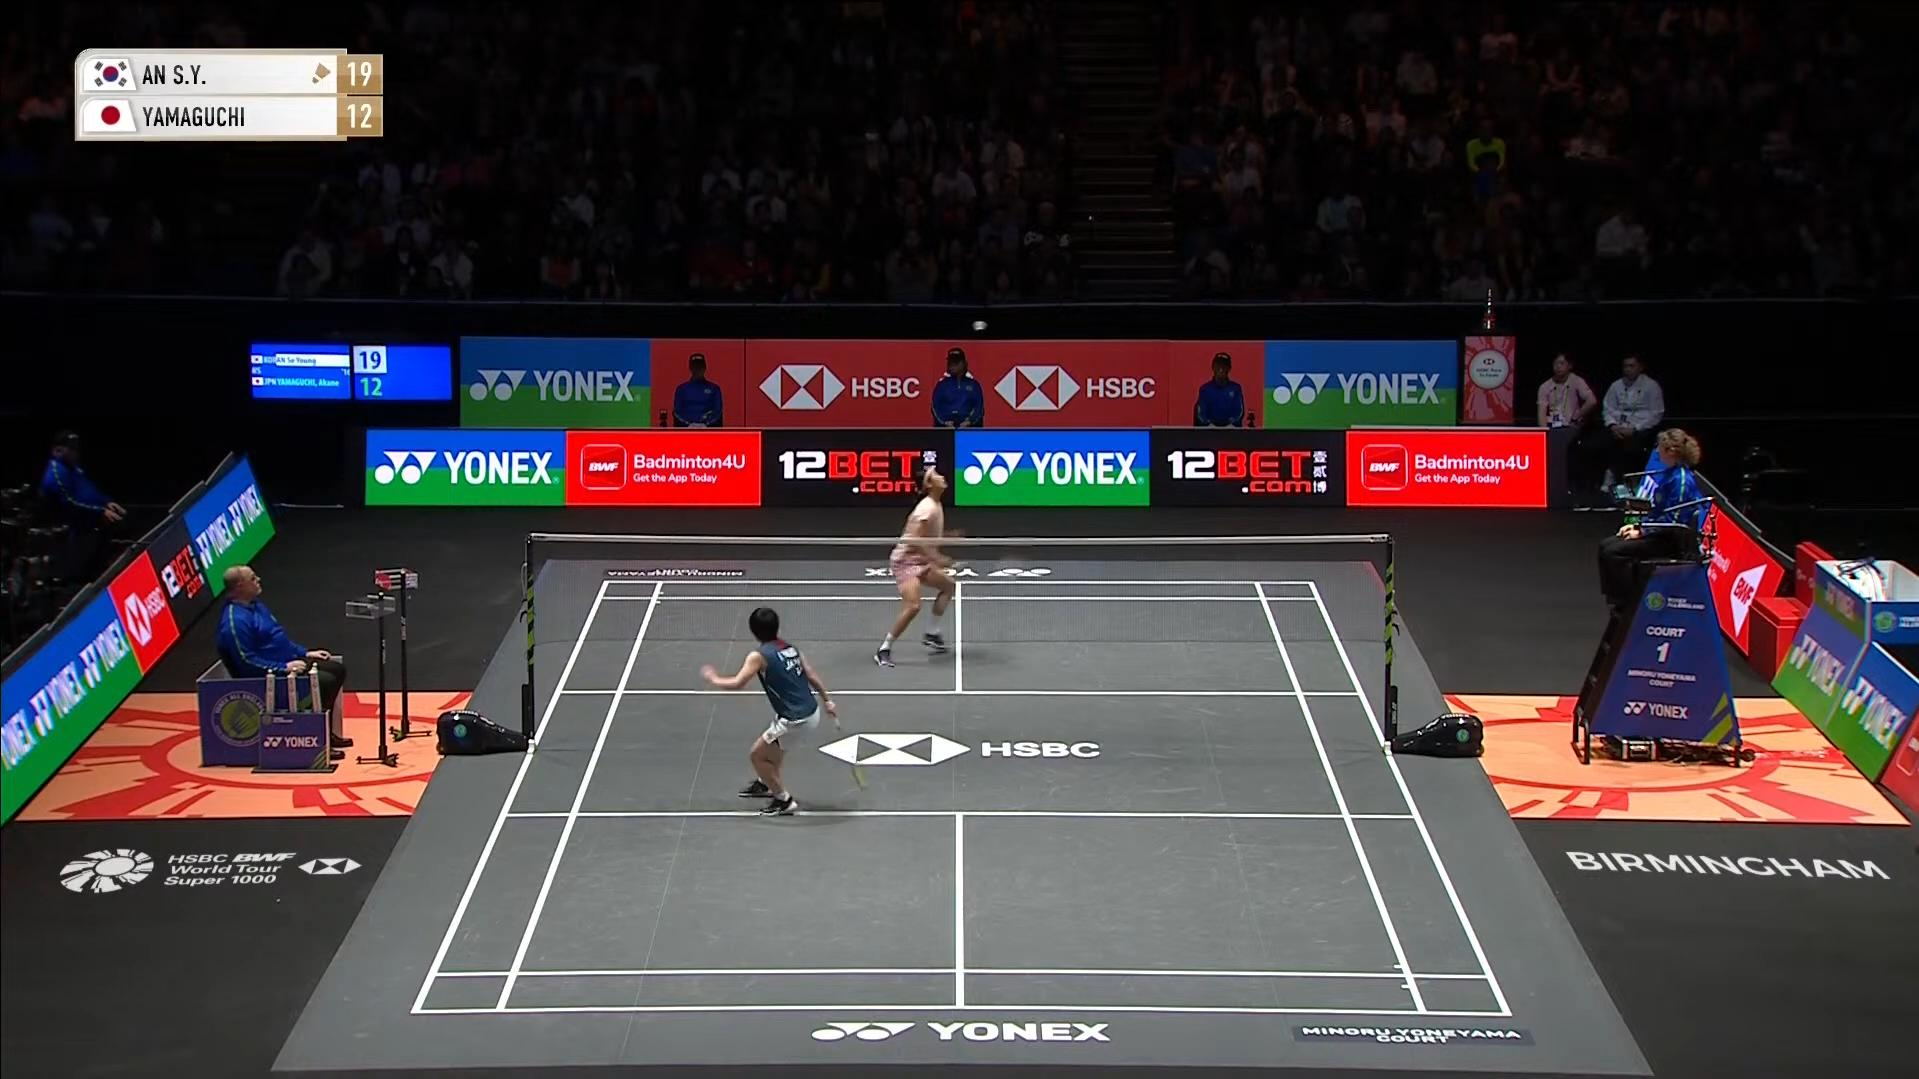shuttle: (966, 312, 994, 340)
